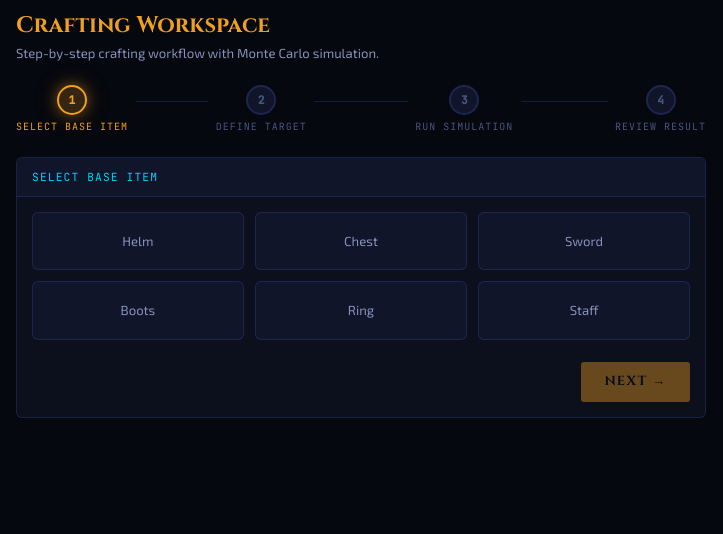
Test: CraftingWorkspace › can remove added affix
Click the button "Helm" at (138, 241), box [32, 212, 244, 270]
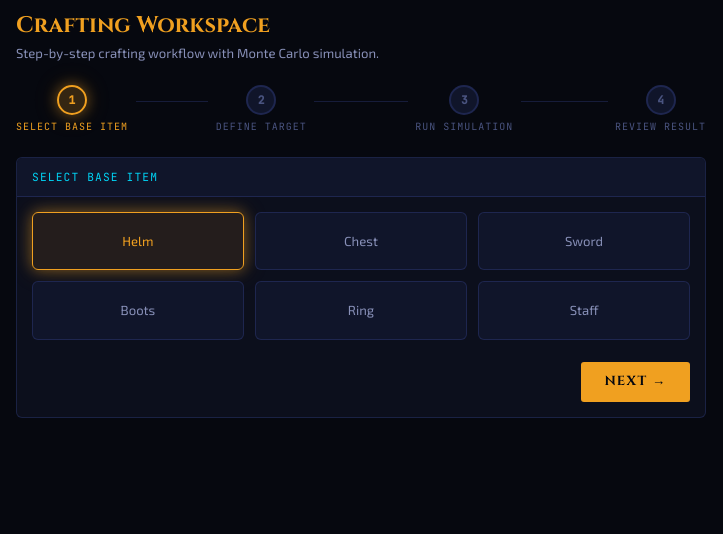
Click the button "Next →" at (635, 382), box [581, 362, 690, 402]
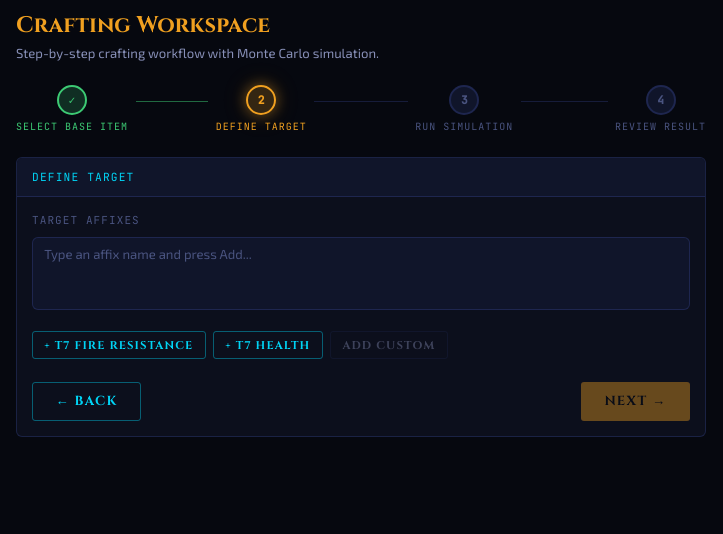
Click the button "+ T7 Fire Resistance" at (119, 345), box [32, 331, 206, 359]
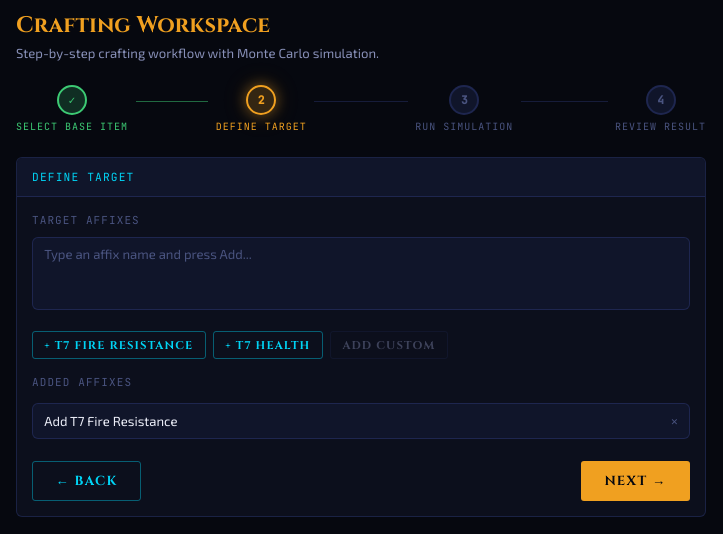
Click the button "✕" at (674, 421), box [671, 414, 678, 429]
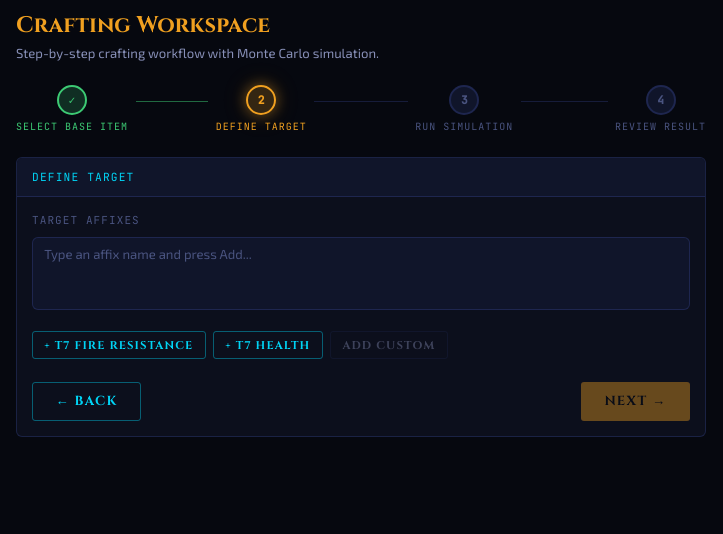
Check: the text "Add T7 Fire Resistance" is gone
